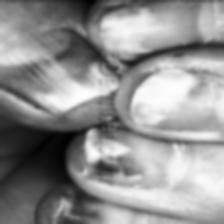Toxin: (17, 43, 88, 108), (134, 76, 182, 122), (96, 4, 154, 40), (54, 196, 94, 224), (82, 136, 95, 176)
